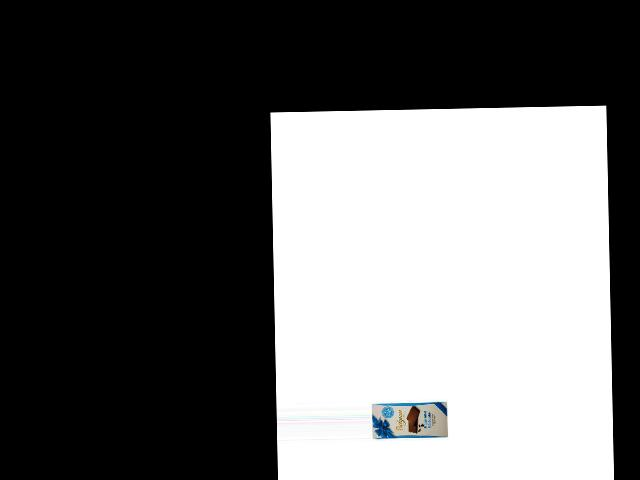chocolate: (370, 398, 449, 444)
